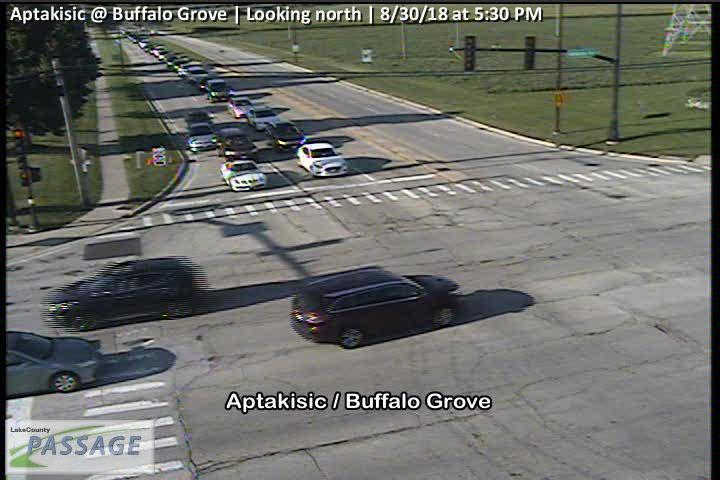SUV: (215, 127, 259, 161)
Sedan: (289, 266, 460, 349), (39, 256, 195, 332), (295, 140, 349, 177), (220, 156, 267, 190), (265, 119, 308, 153), (185, 119, 217, 153), (246, 105, 283, 131), (225, 95, 256, 118)
